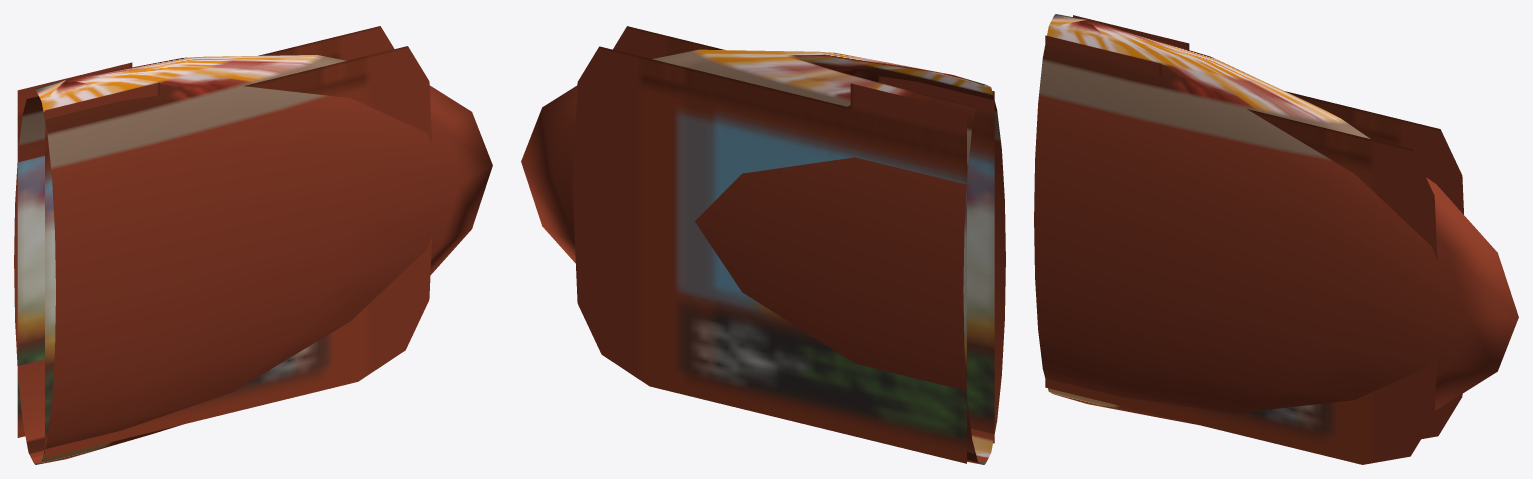
File: section-5.obj
3 renders of one model, left to right at view 1: azimuth 30°, elevation 25°; view 2: azimuth 150°, elevation 25°; view 3: azimuth 330°, elevation 25°, orthographic.
Bounding box in the file's own units: 0.9646 × 0.7638 × 0.1533.
